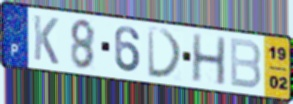6: (113, 25, 142, 74)
8: (69, 18, 97, 72)
B: (228, 36, 263, 91)
D: (146, 25, 185, 81)
H: (190, 33, 228, 88)
K: (32, 13, 60, 67)
